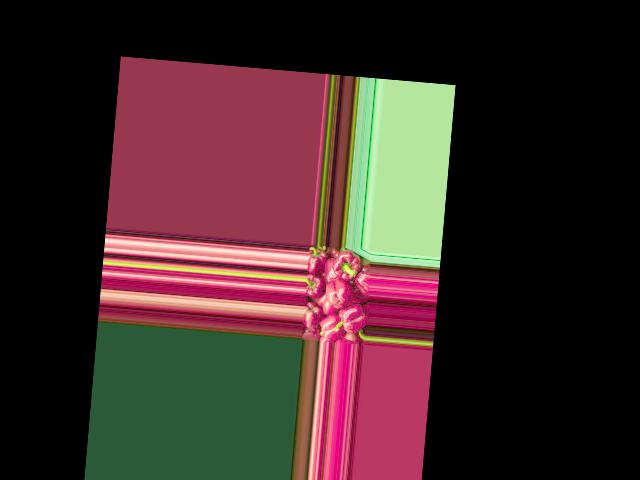bell_pepper: (307, 246, 327, 273)
